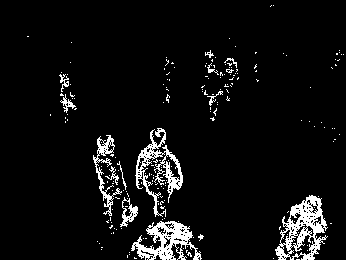person: (89, 132, 140, 232), (135, 126, 184, 220), (198, 61, 227, 124), (57, 70, 79, 122)
